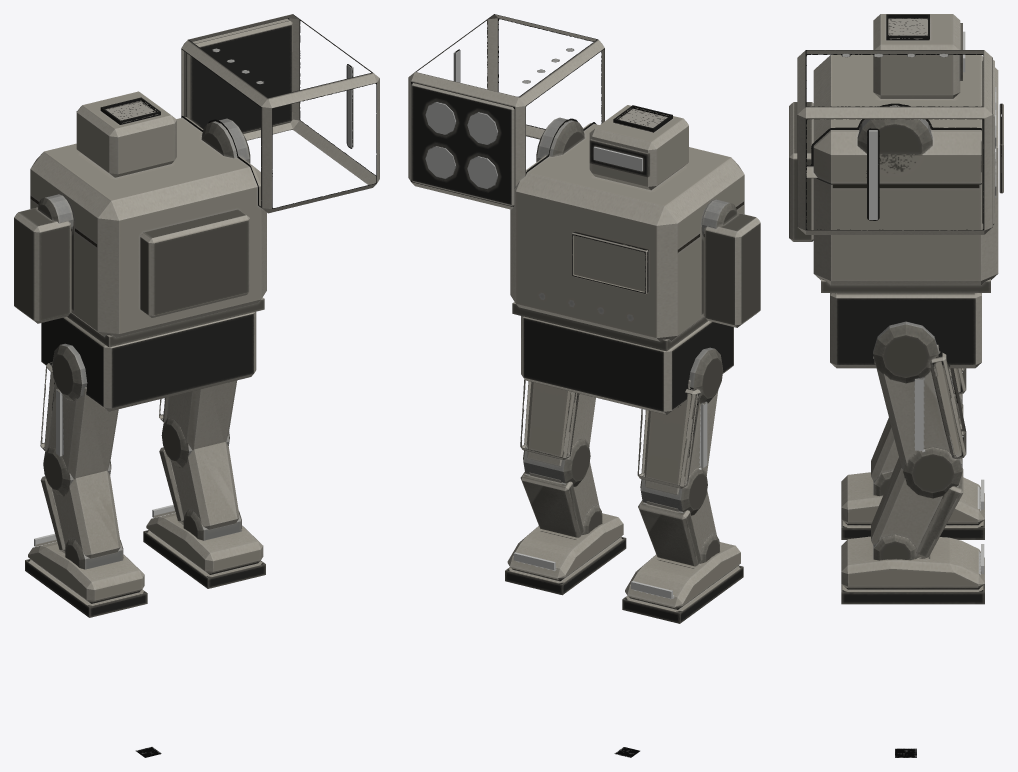
The model's file is ord_petard.fbx.
3 renders of one model, left to right at view 1: azimuth 30°, elevation 25°; view 2: azimuth 150°, elevation 25°; view 3: azimuth 270°, elevation 25°, orthographic. The views are drawn at different scales.
Visible parts, largest first — view 1: torso_bar, base_bar, thighL_bar, shinL_bar, shinR_bar, footR_bar, footL_bar, thighR_bar; view 2: torso_bar, base_bar, thighL_bar, thighR_bar, footR_bar, footL_bar, shinR_bar, shinL_bar, torso_glow_weapon_bar, torso_glow_head_bar; view 3: torso_bar, thighR_bar, base_bar, footR_bar, shinR_bar, footL_bar, shinL_bar, torso_glow_running_bar, thighR_glow_running_bar, thighL_bar.
Boxes of the visible parts, x1,y1,x2,y2 form: torso_bar: (14, 14, 379, 347); base_bar: (41, 311, 256, 411); thighL_bar: (40, 343, 118, 496); shinL_bar: (40, 470, 123, 569); shinR_bar: (159, 442, 241, 540); footR_bar: (143, 513, 265, 588); footL_bar: (25, 542, 147, 617); thighR_bar: (159, 380, 237, 467); torso_bar: (408, 14, 760, 351); base_bar: (521, 316, 733, 414); thighL_bar: (637, 347, 723, 515); thighR_bar: (520, 379, 595, 486); footR_bar: (505, 513, 626, 595); footL_bar: (622, 542, 743, 623); shinR_bar: (520, 462, 602, 537); shinL_bar: (638, 491, 719, 566); torso_glow_weapon_bar: (425, 102, 497, 188); torso_glow_head_bar: (593, 146, 642, 171); torso_bar: (789, 14, 1003, 292); thighR_bar: (873, 321, 966, 498); base_bar: (830, 293, 981, 368); footR_bar: (841, 536, 984, 604); shinR_bar: (871, 457, 963, 560); footL_bar: (841, 472, 984, 539); shinL_bar: (871, 404, 963, 496); torso_glow_running_bar: (869, 130, 877, 219); thighR_glow_running_bar: (915, 378, 923, 450); thighL_bar: (948, 368, 966, 418).
Bounding box in the file's own units: 370 × 755 × 198.
2 materials, 2 textured.
